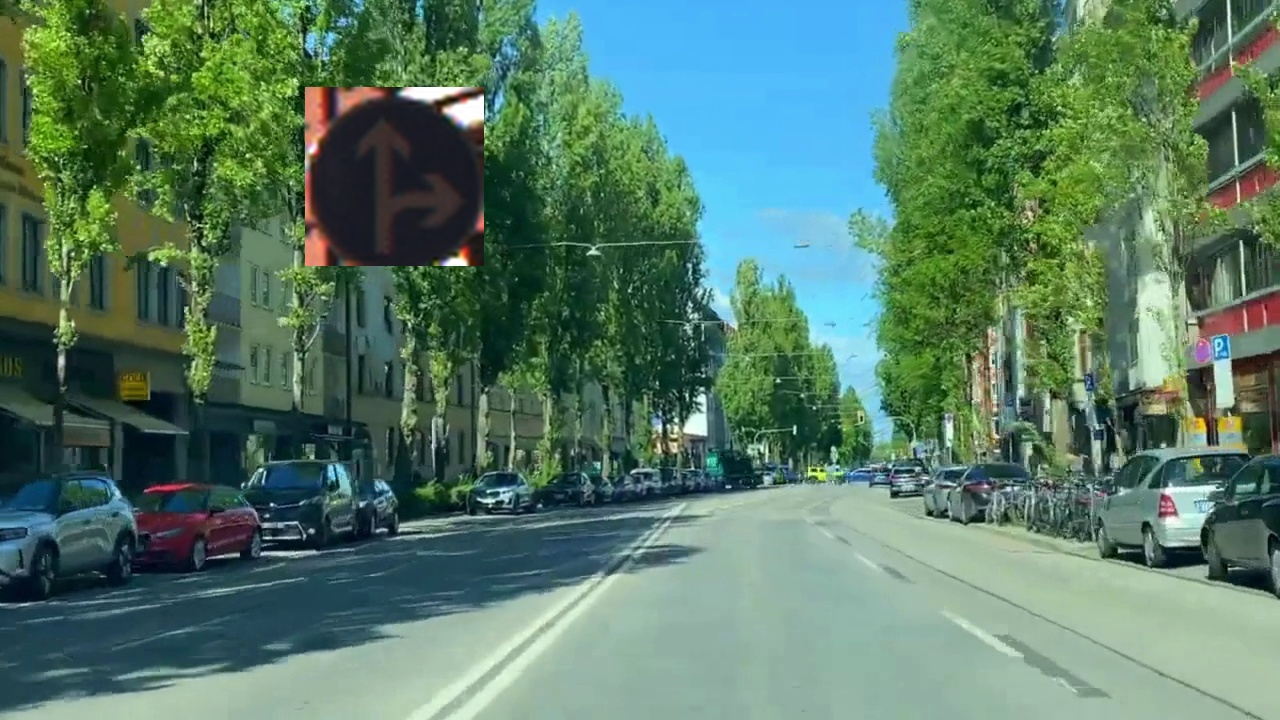Straight/right: (305, 87, 484, 266)
